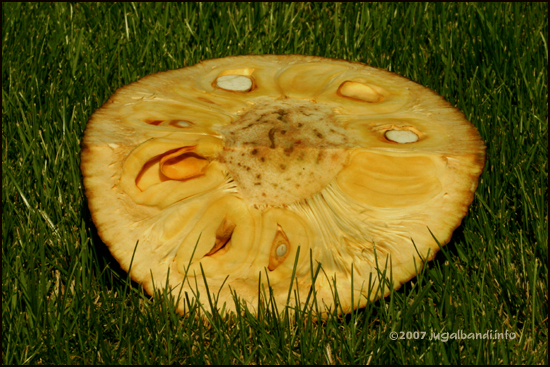jackfruit: (80, 53, 486, 322)
